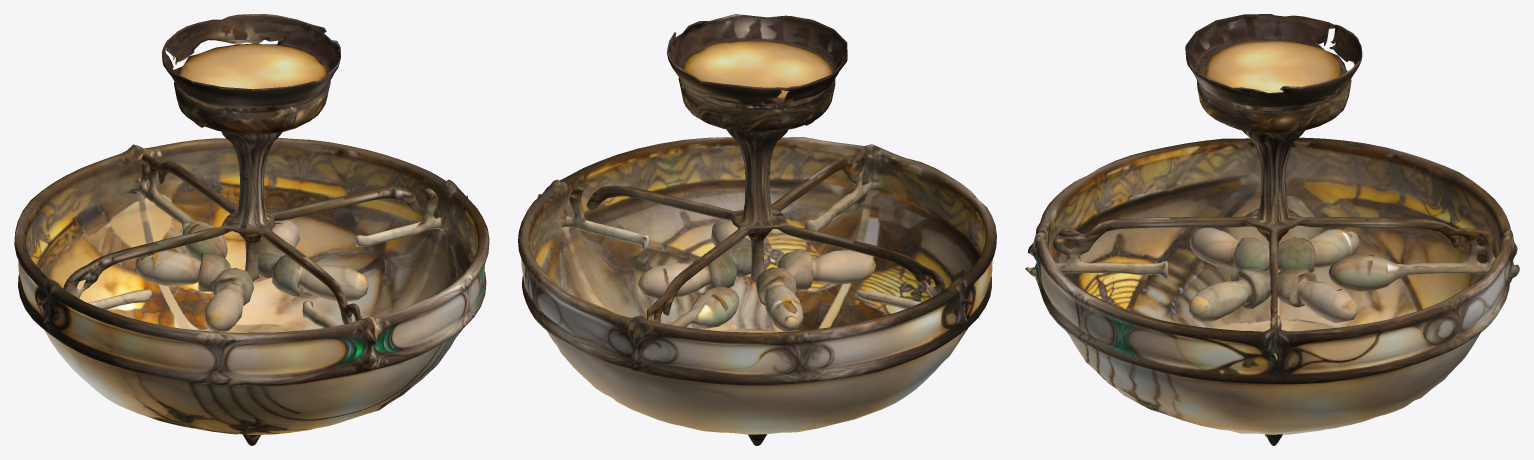
File: art_nouveau_style_cei_0613163811_texture.fbx
3 views of the same model, side by side, from view 1: azimuth 30°, elevation 25°; view 2: azimuth 150°, elevation 25°; view 3: azimuth 270°, elevation 25° (orthographic).
Visible parts, largest first — view 1: Mesh1_Mesh1.035; view 2: Mesh1_Mesh1.035; view 3: Mesh1_Mesh1.035.
Part boxes in pixels (left/top/right/bottom): Mesh1_Mesh1.035: left=14, top=14, right=489, bottom=445; Mesh1_Mesh1.035: left=518, top=14, right=996, bottom=445; Mesh1_Mesh1.035: left=1025, top=14, right=1519, bottom=445.
Bounding box in the file's own units: 199 × 175 × 197.
Materials: 1 (1 with a texture image).
